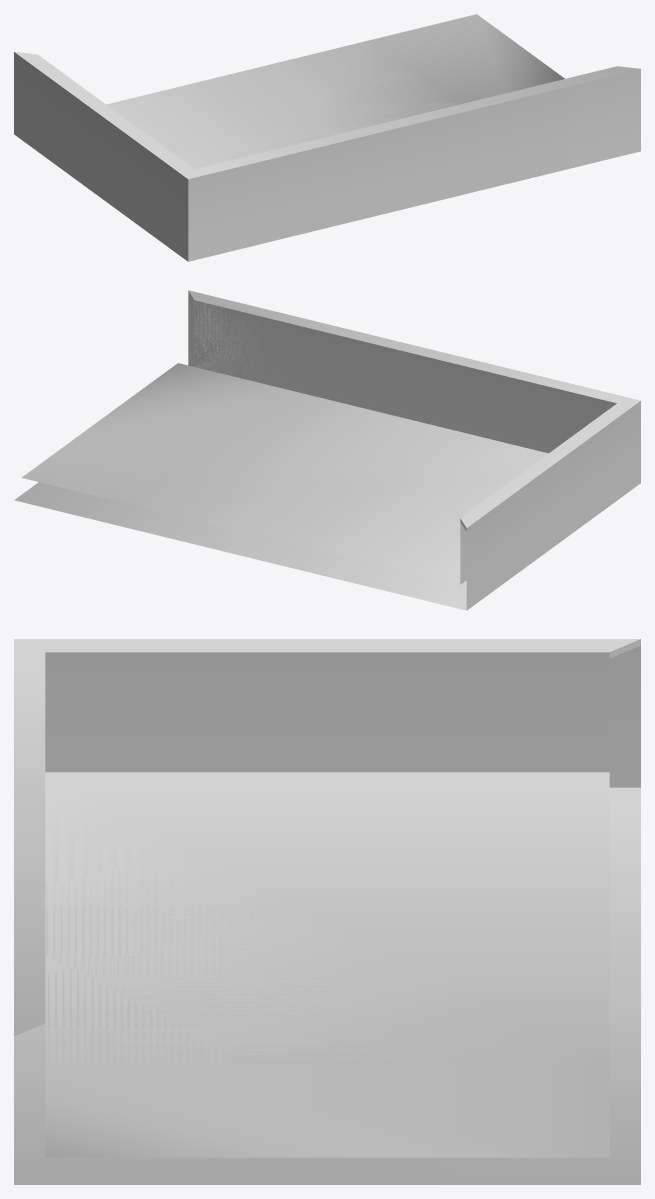
File: basin-minus-bottom.obj
The picture shows the model from 3 angles, top to bottom: view 1: azimuth 30°, elevation 25°; view 2: azimuth 150°, elevation 25°; view 3: azimuth 270°, elevation 25°; orthographic projection. The views are drawn at different scales.
Visible parts, largest first — view 1: #ID396; view 2: #ID396; view 3: #ID396.
Part boxes in pixels (x1,y1,x2,y2): #ID396: [14, 14, 640, 261]; #ID396: [14, 290, 640, 610]; #ID396: [14, 639, 640, 1184].
Size of the model in its own units: 1.3 by 0.2264 by 0.8664.
